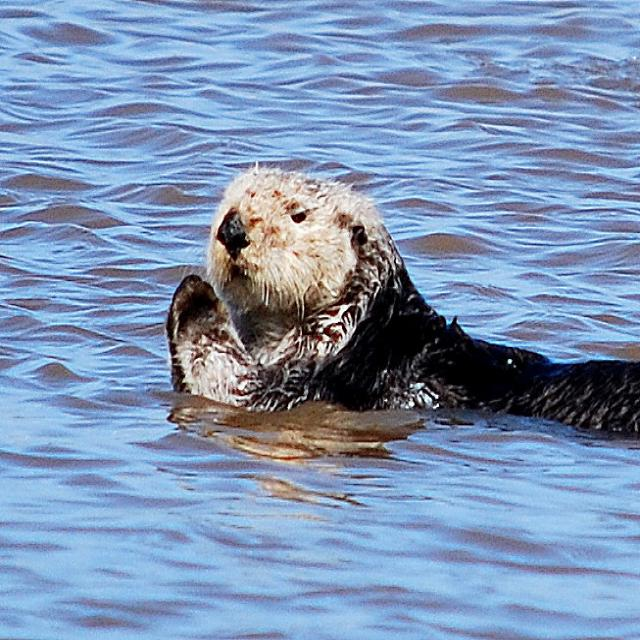otter: (171, 166, 640, 441)
